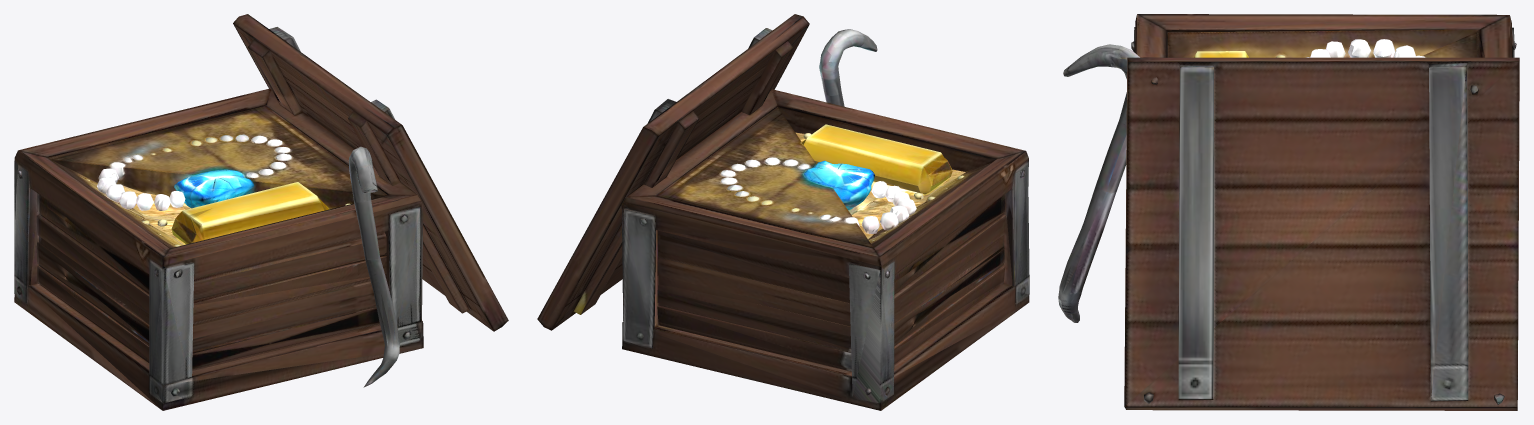
The model's file is fenced_goods.glb.
3 views of the same model, side by side, from view 1: azimuth 30°, elevation 25°; view 2: azimuth 150°, elevation 25°; view 3: azimuth 270°, elevation 25° (orthographic). The views are drawn at different scales.
Size of the model in its own units: 1 by 0.6504 by 0.9141.
Materials: 1 (1 with a texture image).
